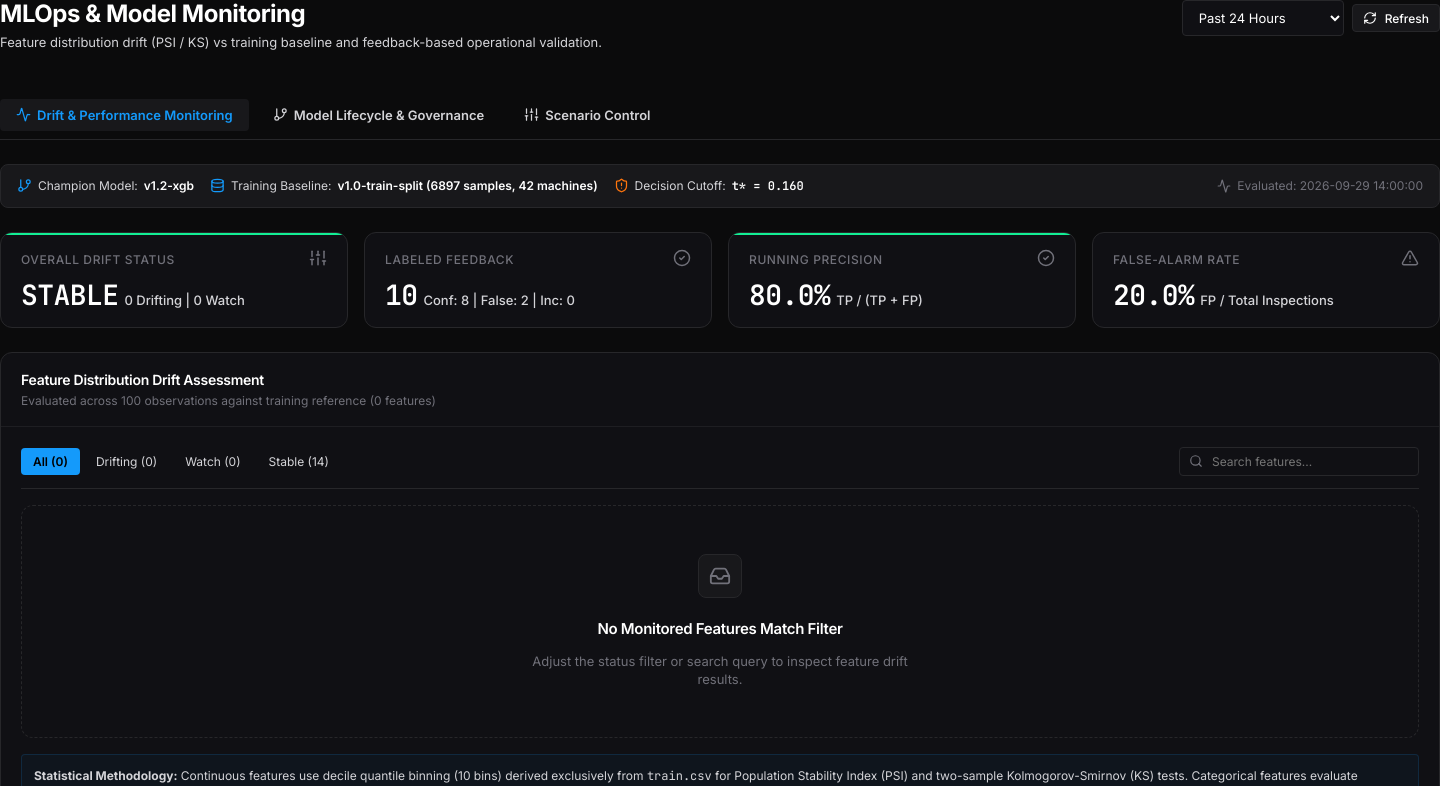
MLOps Page & Scenario-Control UI (T-058) › updates preview card when selecting different machine and scenario presets
Expected: the heading "MLOps & Model Monitoring" is shown, [0,0,305,29]
Click the button "Scenario Control" at (587, 115), box [508,99,666,131]
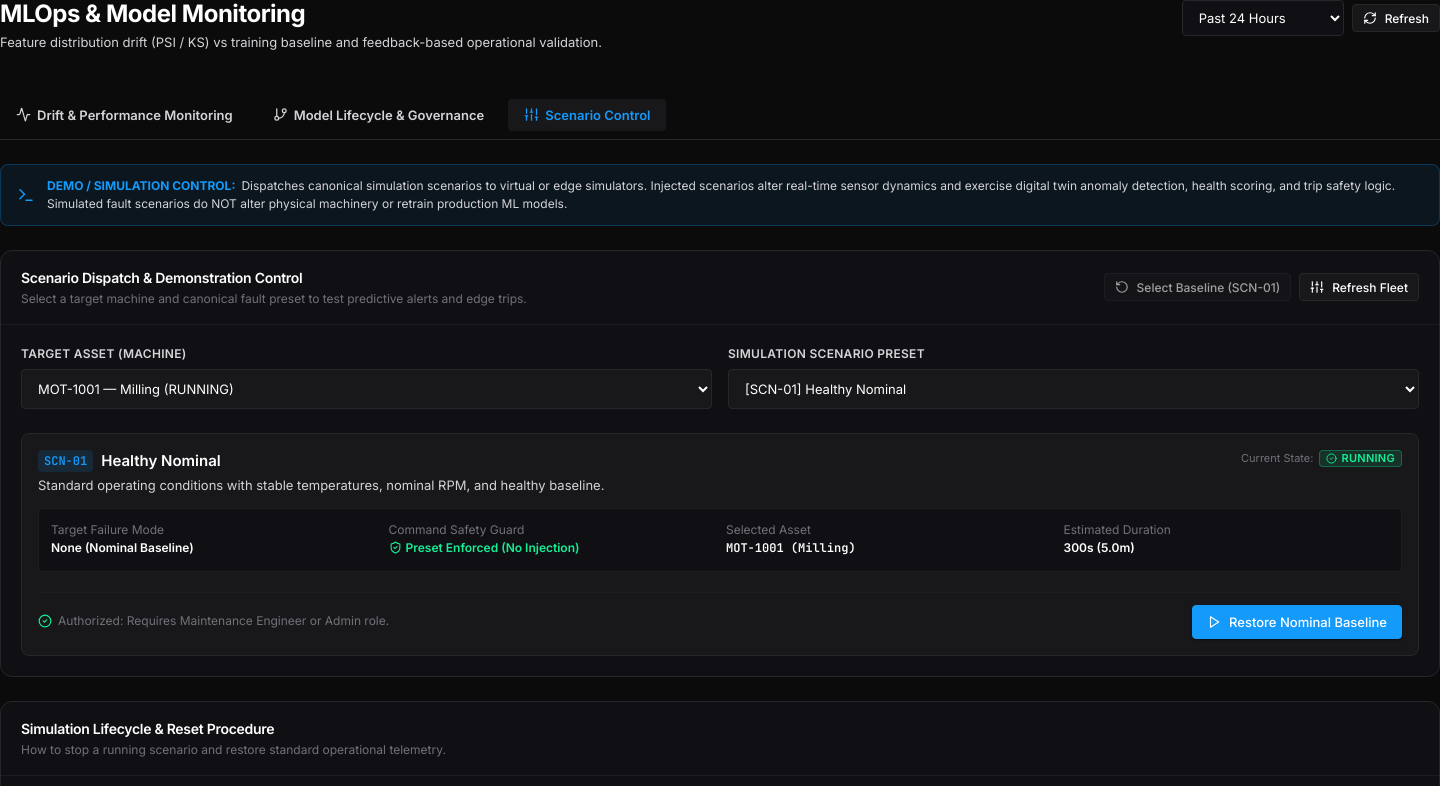
Expected: the text "Target Asset (Machine)" is shown, [21,346,187,361]
// Change machine to PMP-2002
Select "PMP-2002 — Pump (RUNNING)" in the dropdown named "Target Machine" at (366, 389), box [21,369,712,409]
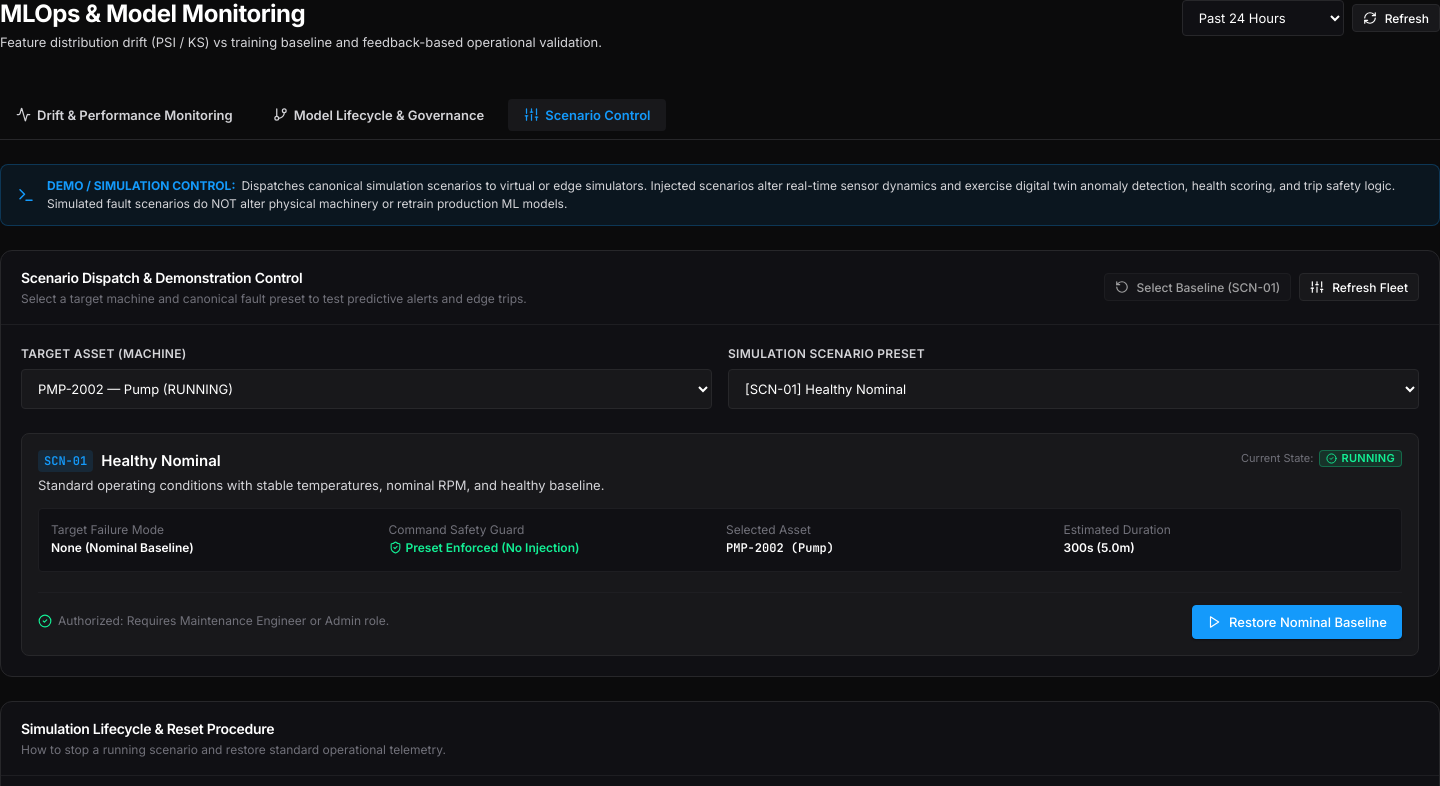
// Change scenario to SCN-02
Select "[SCN-02] Heat Dissipation Failure" in the dropdown labelled "Simulation Scenario Preset" at (1074, 389), box [728,369,1419,409]
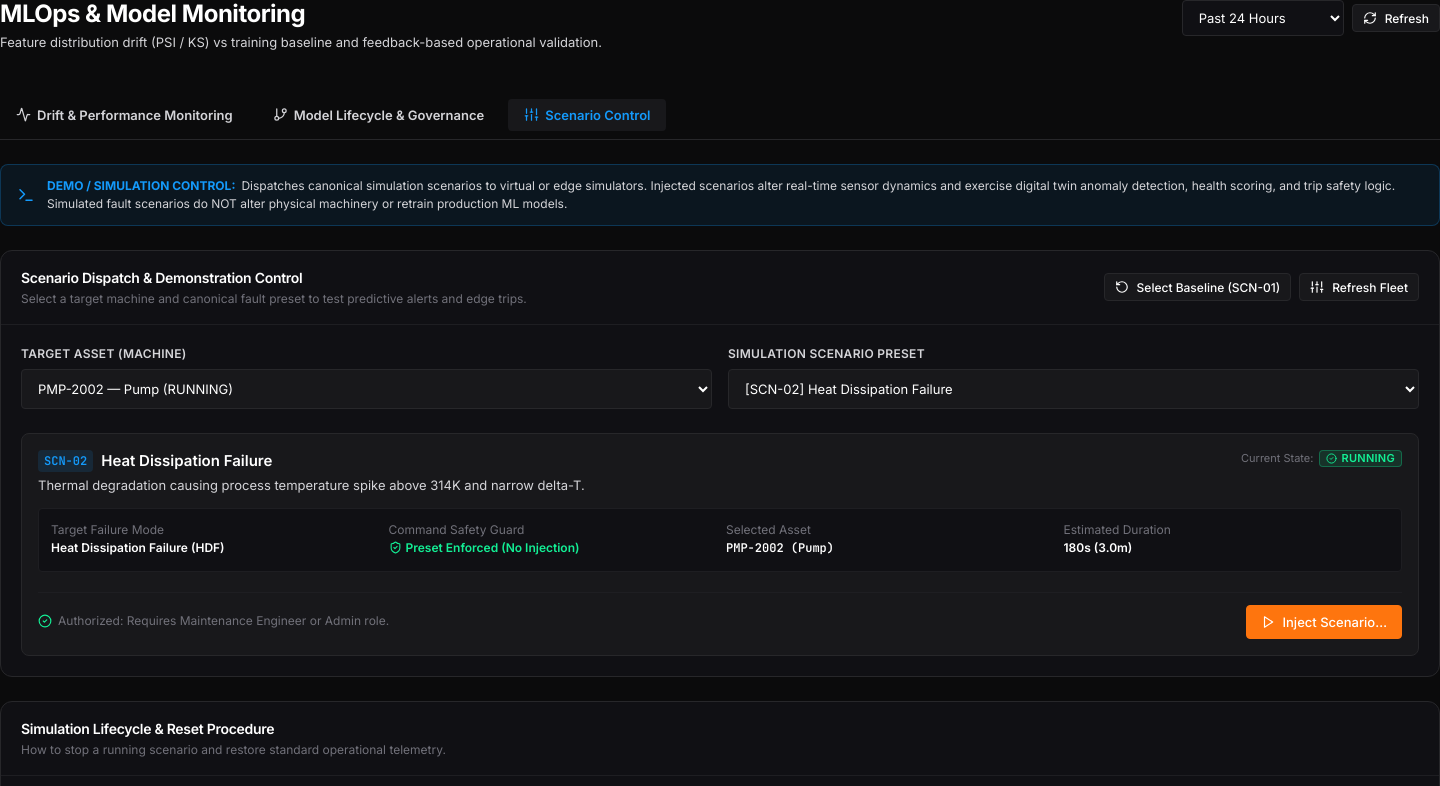
Expected: the text "Thermal degradation causing process temperature spike" is shown, [38,478,585,494]
Expected: the text "Heat Dissipation Failure (HDF)" is shown, [51,540,225,555]
Expected: the text "180s (3.0m)" is shown, [1064,540,1132,555]
